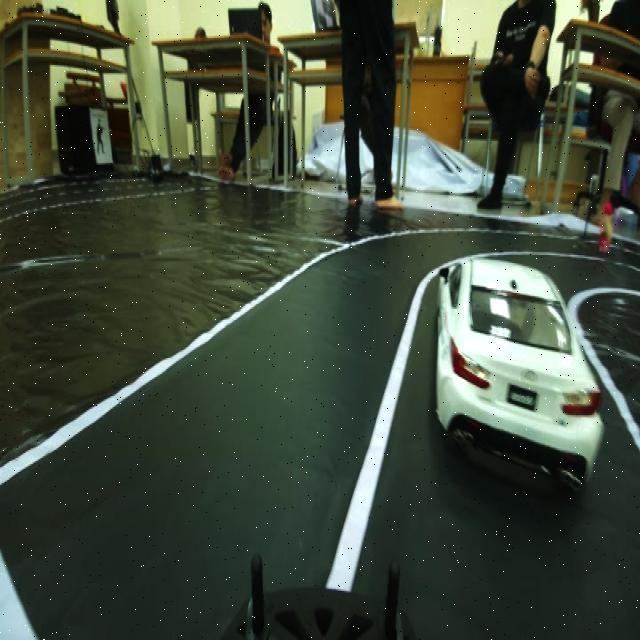car: (439, 236, 611, 515)
